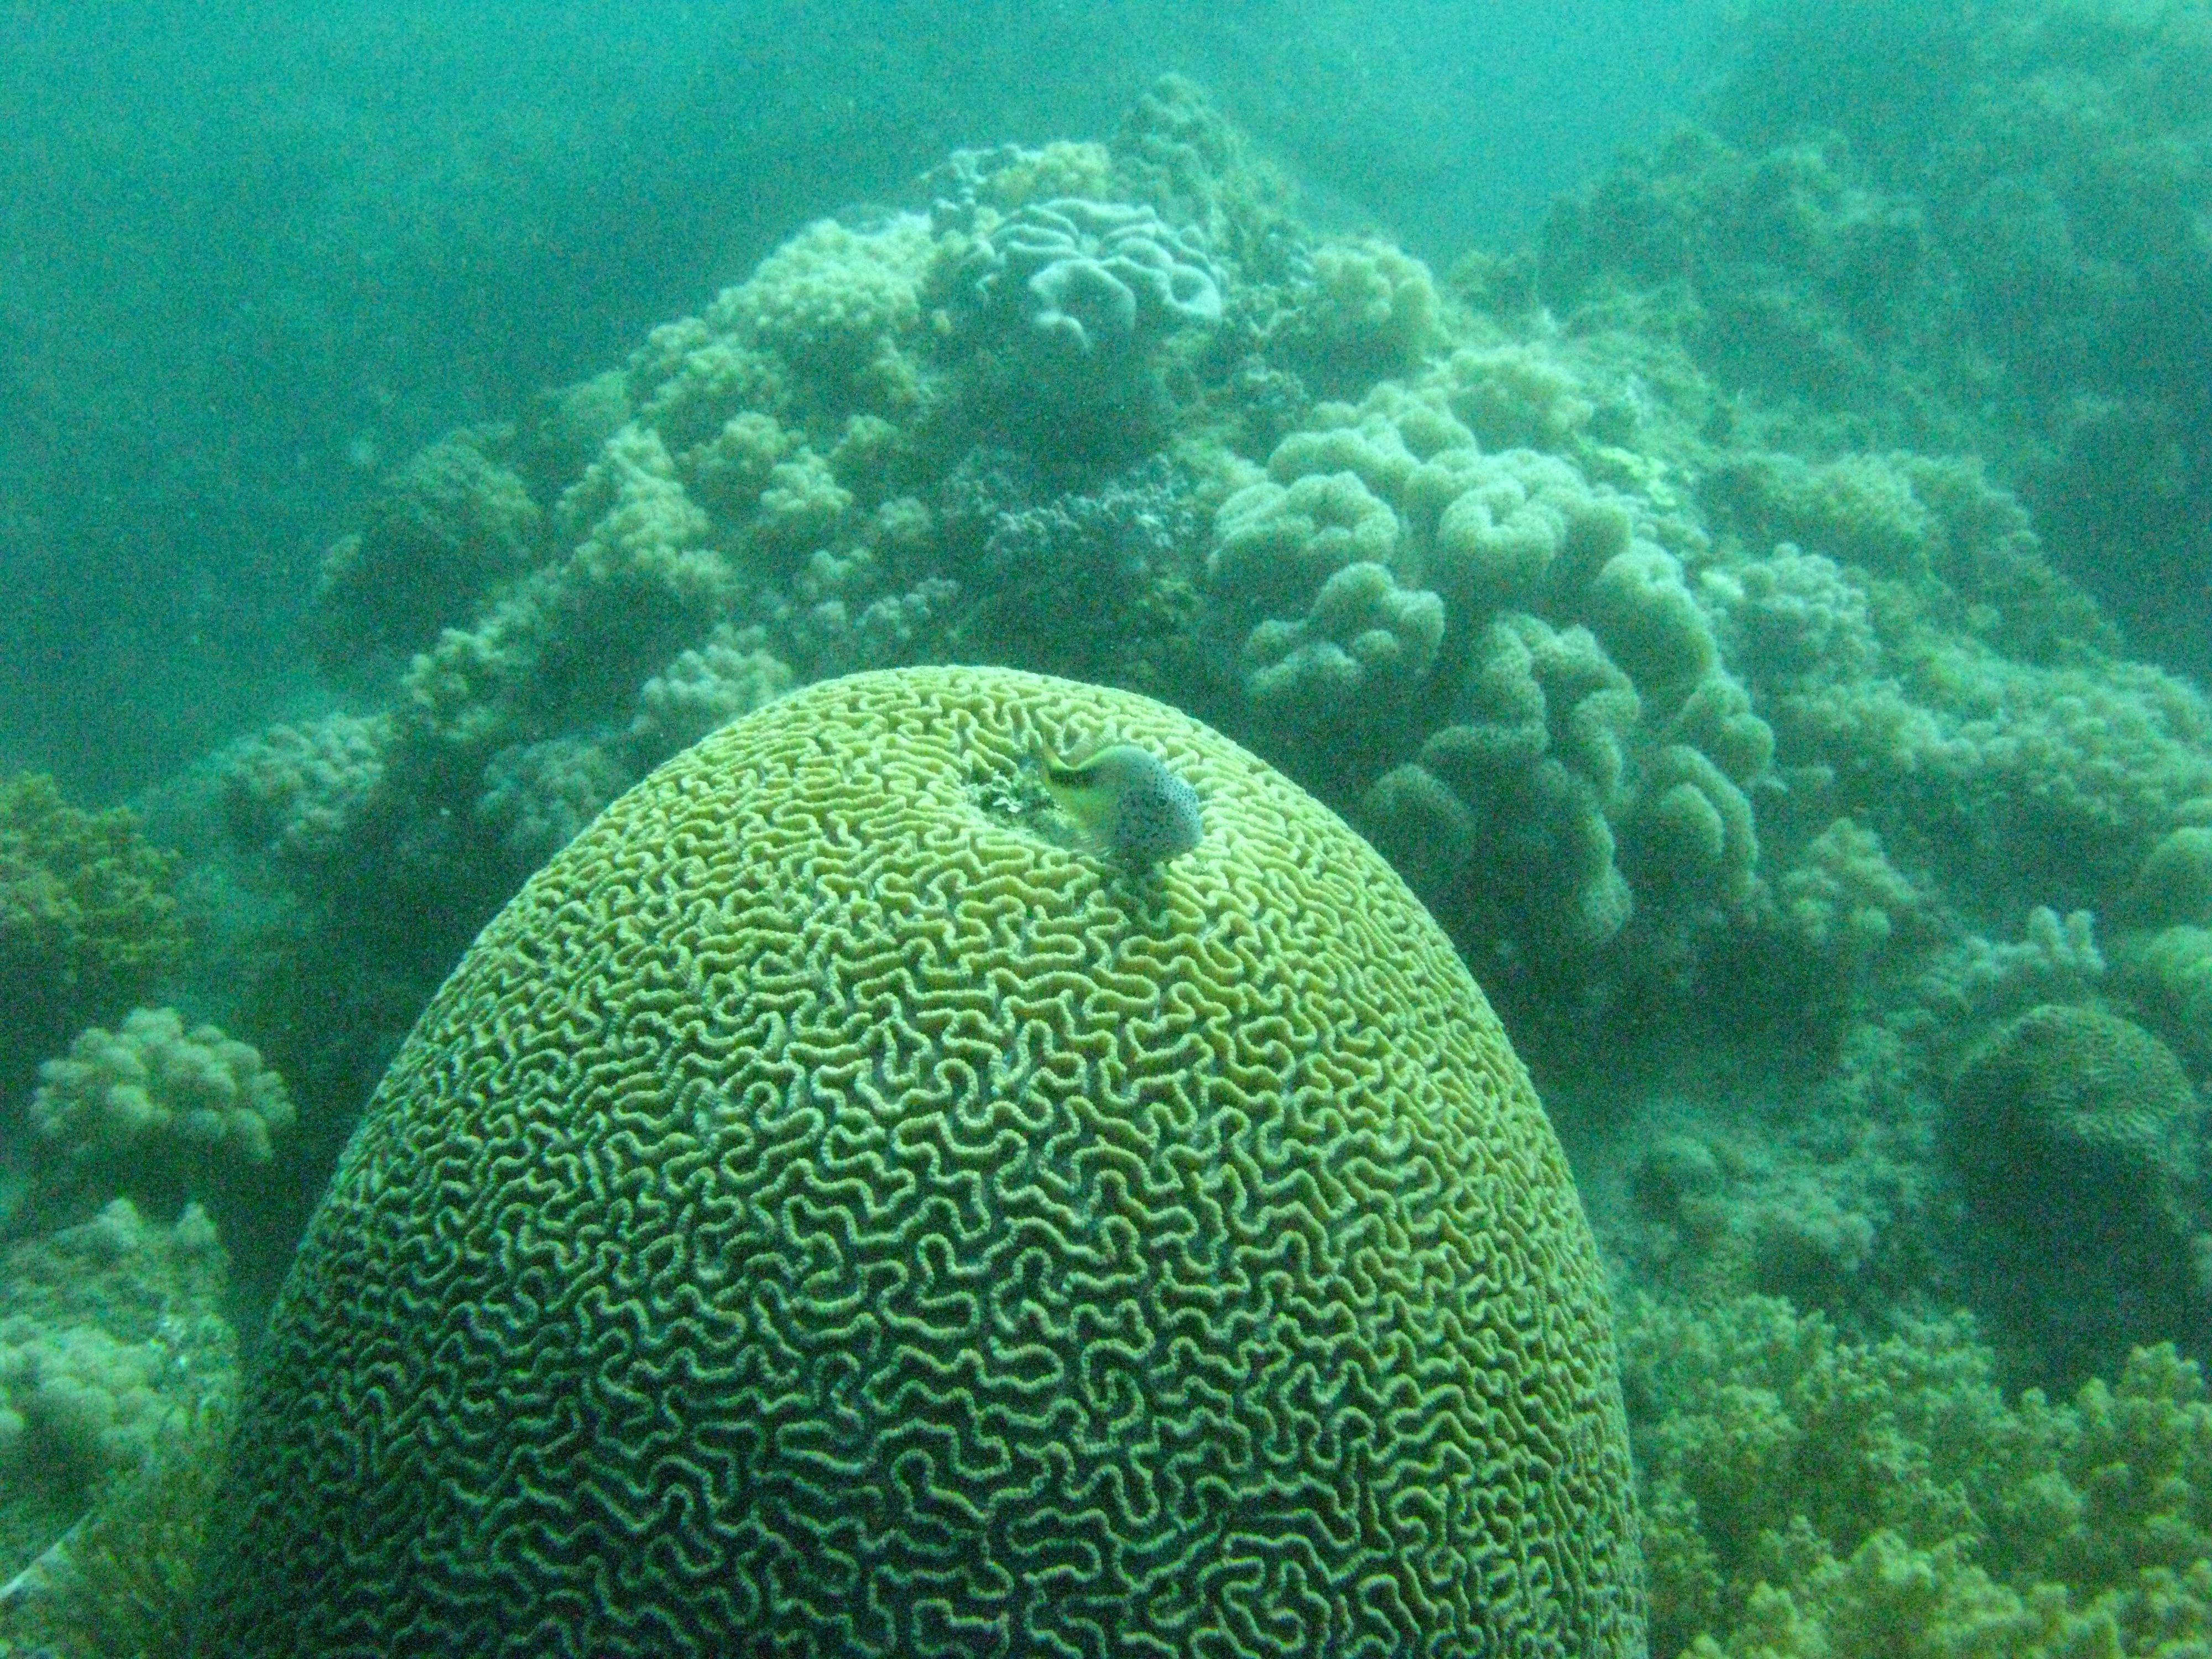Fish: (991, 702, 1233, 908)
